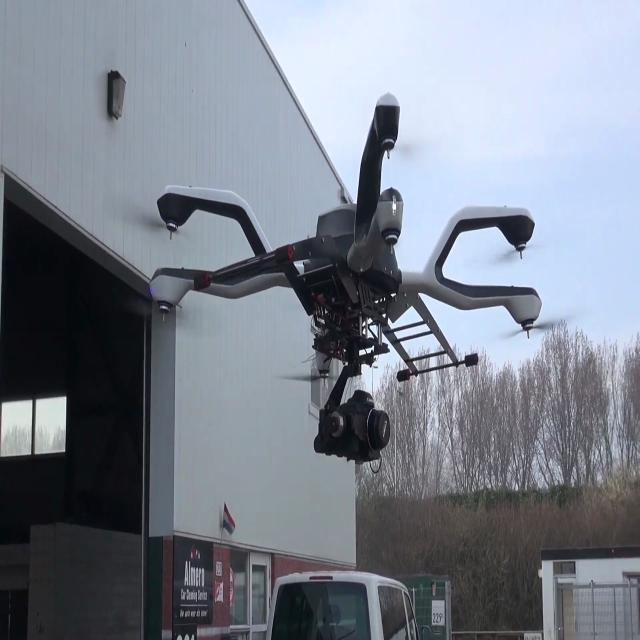drone: (152, 78, 550, 465)
